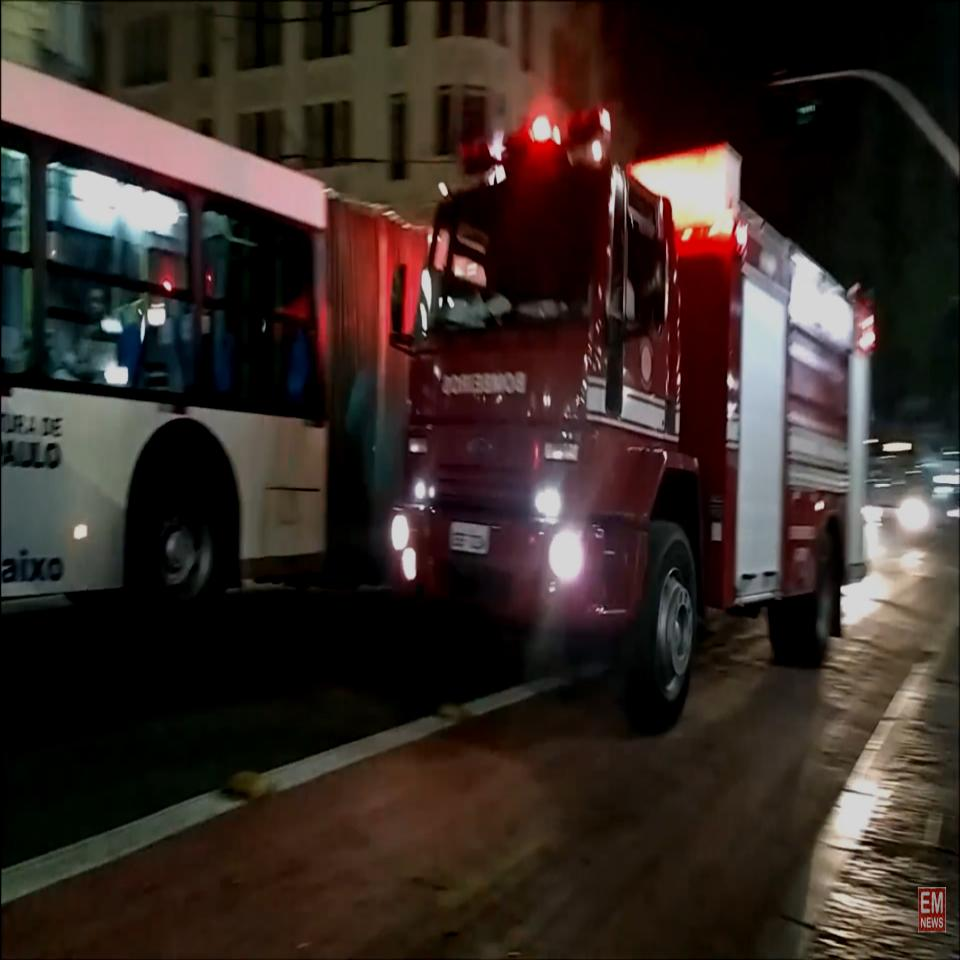bombeiro: (377, 102, 878, 737)
